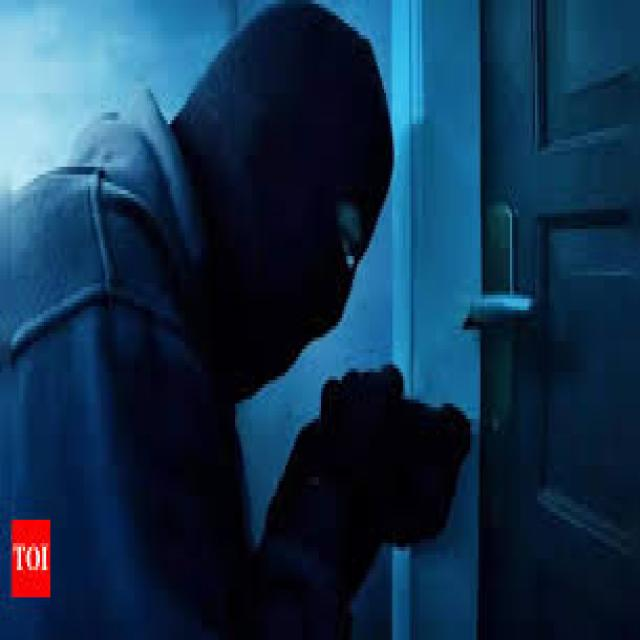person-with-mask: (3, 4, 516, 640)
